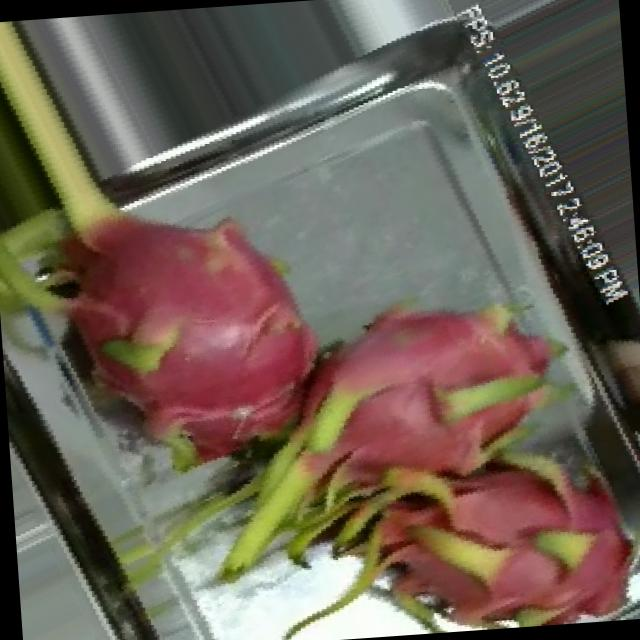Fruit: (598, 313, 640, 440)
